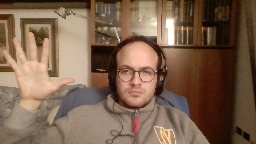Mano_aperta: (0, 30, 76, 100)
